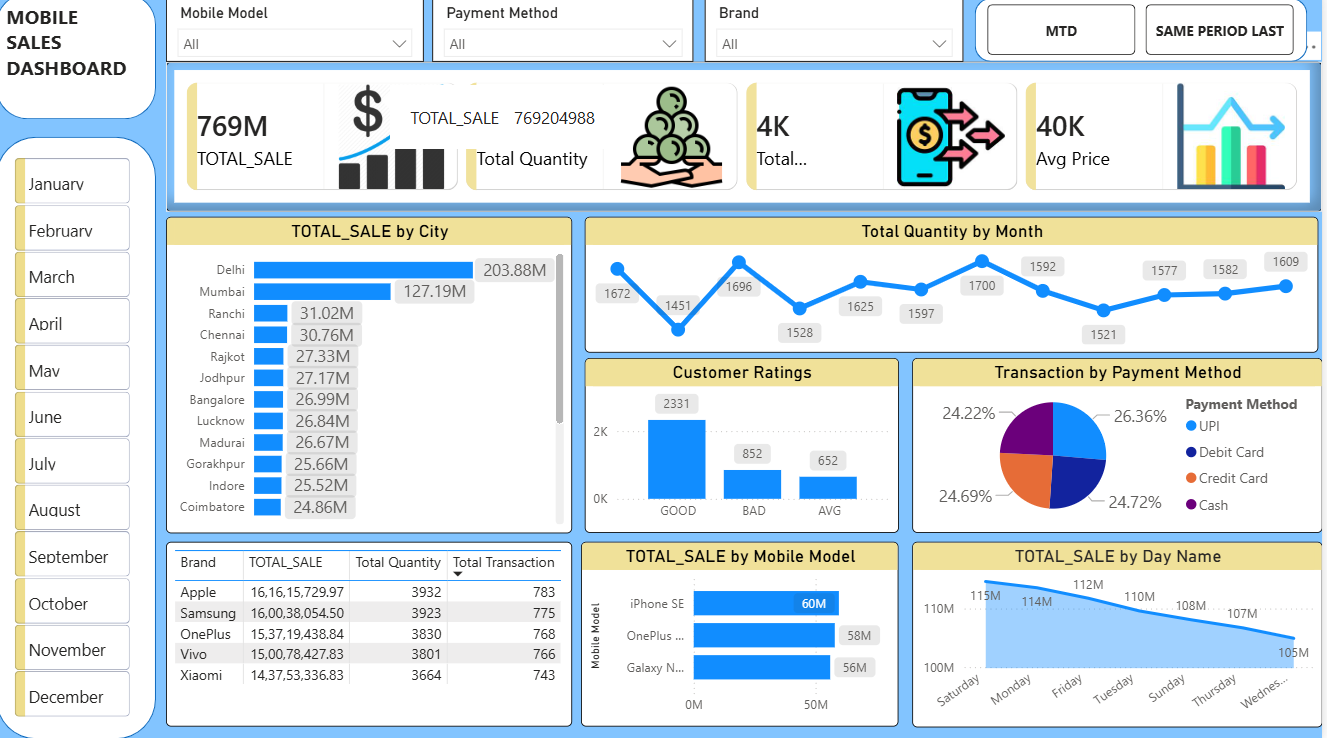

What the dashboard file says about the page in this screenshot:
{"tool":"powerbi","page":{"name":"DASHBOARD","canvas":[1280,720],"ordinal":0},"visuals":[{"type":"shape","box":[0,0,154.4,121.9],"z":0},{"type":"shape","box":[0,138.7,154.4,581.5],"z":1000},{"type":"cardVisual","fields":{"Data":["mobile_data.TOTAL_SALE","mobile_data.Total Quantity","mobile_data.Total Transaction","mobile_data.Avg Price"]},"box":[164.1,66.4,1116,144.8],"z":2000},{"type":"advancedSlicerVisual","fields":{"Values":["custom calender.date2.Variation.Date Hierarchy.Month"]},"box":[13.3,154.4,121.9,553.8],"z":3000},{"type":"lineChart","fields":{"Y":["mobile_data.Total Quantity"],"Category":["custom calender.date2.Variation.Date Hierarchy.Month"]},"box":[568.2,216,708.2,131.5],"z":4000},{"type":"tableEx","fields":{"Values":["mobile_data.Brand","mobile_data.TOTAL_SALE","mobile_data.Total Quantity","mobile_data.Total Transaction"]},"box":[164.1,529.6,392.1,178.6],"z":5000},{"type":"columnChart","title":"Customer Ratings ","fields":{"Category":["mobile_data.rating"],"Y":["CountNonNull(mobile_data.Customer Ratings)"]},"box":[568.2,352.3,302.8,168.9],"z":6000},{"type":"pieChart","title":" Transaction by Payment Method","fields":{"Y":["mobile_data.Total Transaction"],"Category":["mobile_data.Payment Method"]},"box":[884.3,352.3,395.7,168.9],"z":7000},{"type":"clusteredBarChart","fields":{"Y":["mobile_data.TOTAL_SALE"],"Category":["mobile_data.Mobile Model"]},"box":[564.6,529.6,306.4,178.6],"z":8000},{"type":"slicer","fields":{"Values":["mobile_data.Mobile Model"]},"box":[164.1,4.8,248.5,61.5],"z":9000},{"type":"slicer","fields":{"Values":["mobile_data.Payment Method"]},"box":[421,4.8,252.1,61.5],"z":10000},{"type":"slicer","fields":{"Values":["mobile_data.Brand"]},"box":[684.1,4.8,249.7,61.5],"z":11000},{"type":"areaChart","fields":{"Y":["mobile_data.TOTAL_SALE"],"Category":["custom calender.Day Name"]},"box":[884,530,396,179],"z":12000},{"type":"clusteredBarChart","fields":{"Category":["mobile_data.City"],"Y":["mobile_data.TOTAL_SALE"]},"box":[164.1,216,392.1,305.2],"z":13000},{"type":"shape","box":[944.6,4.8,320.9,61.5],"z":14000},{"type":"pageNavigator","box":[956.7,10.9,298,49.5],"z":15000},{"type":"textbox","box":[4.8,4.8,141.2,111],"z":15001}]}

Visuals, with their boxes in screenshot pixels (x1, y1, x2, y2), scaled from the page's 1280x720 canvas onto the 1327x738 screenshot:
shape: detection(0, 0, 160, 125)
shape: detection(0, 142, 160, 737)
cardVisual - mobile_data.TOTAL_SALE x mobile_data.Total Quantity: detection(170, 68, 1326, 216)
advancedSlicerVisual - custom calender.date2.Variation.Date Hierarchy.Month: detection(14, 158, 140, 726)
lineChart - mobile_data.Total Quantity x custom calender.date2.Variation.Date Hierarchy.Month: detection(589, 221, 1323, 356)
tableEx - mobile_data.Brand x mobile_data.TOTAL_SALE: detection(170, 543, 577, 726)
"Customer Ratings " columnChart: detection(589, 361, 903, 534)
" Transaction by Payment Method" pieChart: detection(917, 361, 1326, 534)
clusteredBarChart - mobile_data.TOTAL_SALE x mobile_data.Mobile Model: detection(585, 543, 903, 726)
slicer - mobile_data.Mobile Model: detection(170, 5, 428, 68)
slicer - mobile_data.Payment Method: detection(436, 5, 698, 68)
slicer - mobile_data.Brand: detection(709, 5, 968, 68)
areaChart - mobile_data.TOTAL_SALE x custom calender.Day Name: detection(916, 543, 1326, 727)
clusteredBarChart - mobile_data.City x mobile_data.TOTAL_SALE: detection(170, 221, 577, 534)
shape: detection(979, 5, 1312, 68)
pageNavigator: detection(992, 11, 1301, 62)
textbox: detection(5, 5, 151, 119)
